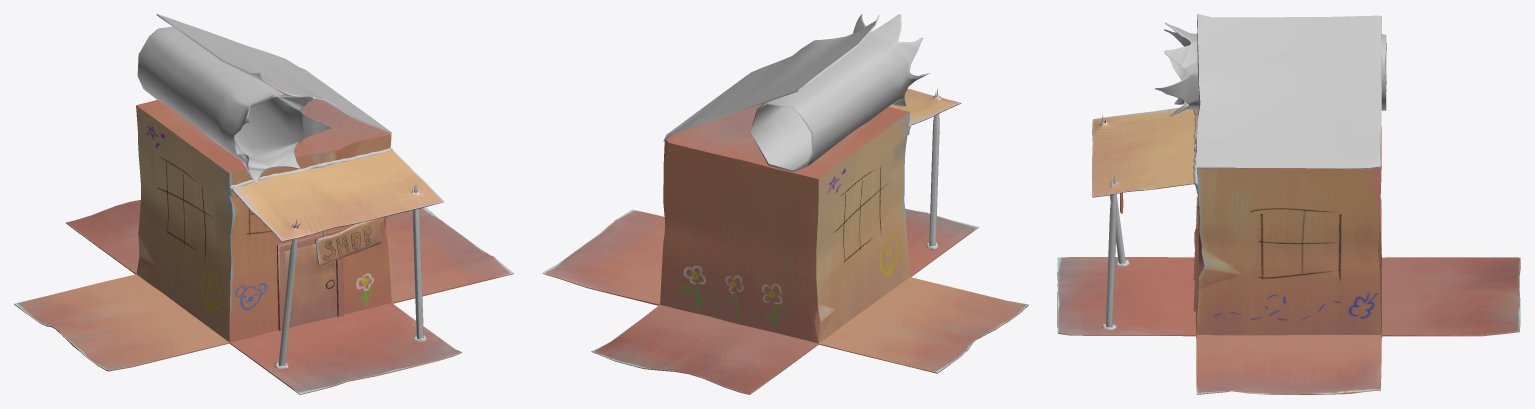
The model's file is shop.fbx.
The picture shows the model from 3 angles, left to right: view 1: azimuth 30°, elevation 25°; view 2: azimuth 150°, elevation 25°; view 3: azimuth 270°, elevation 25°; orthographic projection. The views are drawn at different scales.
Parts seen in each view (by area): view 1: cardboardBox_low, roll_low, porchRoof_low, roof_low, door_low, toothpickLeft_low, sign_low, doorFrame_low, glue_low; view 2: cardboardBox_low, roll_low, roof_low, porchRoof_low, toothpickLeft_low; view 3: cardboardBox_low, roof_low, porchRoof_low, roll_low, toothpickLeft_low.
Boxes of the visible parts, x1,y1,x2,y2 form: cardboardBox_low: (14,89,513,394); roll_low: (137,26,331,183); porchRoof_low: (232,150,444,241); roof_low: (156,14,391,133); door_low: (284,244,337,327); toothpickLeft_low: (278,183,423,365); sign_low: (315,218,382,265); doorFrame_low: (277,229,344,330); glue_low: (229,148,426,368); cardboardBox_low: (542,104,1028,394); roll_low: (750,14,930,172); roof_low: (663,15,879,141); porchRoof_low: (889,88,961,125); toothpickLeft_low: (929,88,939,245); cardboardBox_low: (1057,110,1520,394); roof_low: (1196,14,1381,168); porchRoof_low: (1092,107,1195,197); roll_low: (1155,22,1386,116); toothpickLeft_low: (1102,115,1125,327).
Bounding box in the file's own units: 500 × 309 × 500.
